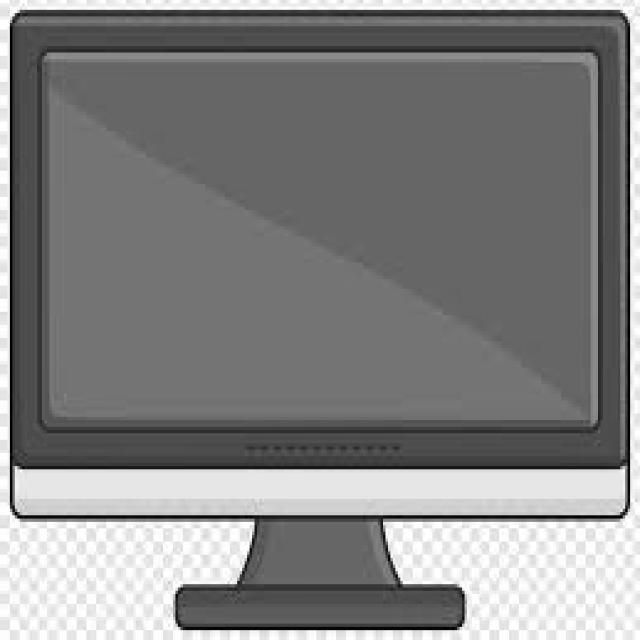monitor: (0, 16, 634, 640)
